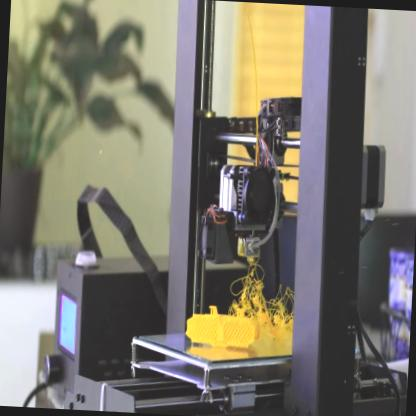fail: (230, 272, 295, 322)
